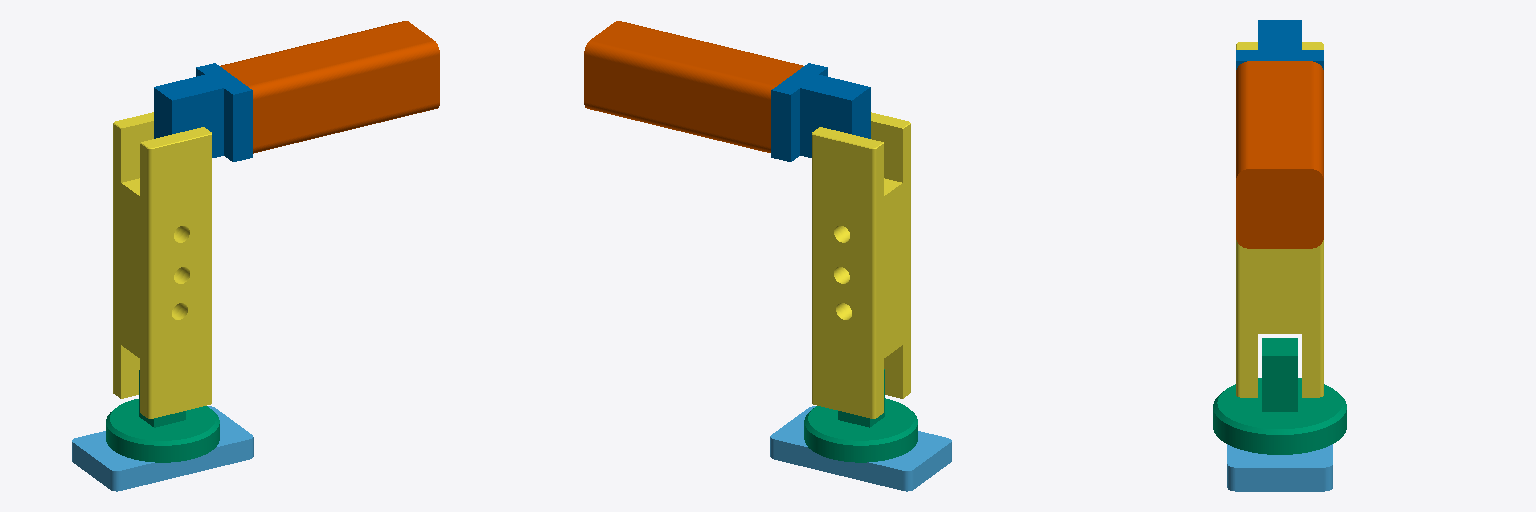
URDF robot description (niryo_one):
<?xml version="1.0" encoding="utf-8"?>
<!-- =================================================================================== -->
<!-- |    This document was autogenerated by xacro from niryo_one.urdf.xacro           | -->
<!-- |    EDITING THIS FILE BY HAND IS NOT RECOMMENDED                                 | -->
<!-- =================================================================================== -->
<!--
    niryo_one.urdf.xacro
    Copyright (C) 2017 Niryo
    All rights reserved.

    This program is free software: you can redistribute it and/or modify
    it under the terms of the GNU General Public License as published by
    the Free Software Foundation, either version 3 of the License, or
    (at your option) any later version.

    This program is distributed in the hope that it will be useful,
    but WITHOUT ANY WARRANTY; without even the implied warranty of
    MERCHANTABILITY or FITNESS FOR A PARTICULAR PURPOSE.  See the
    GNU General Public License for more details.

    You should have received a copy of the GNU General Public License
    along with this program.  If not, see <http://www.gnu.org/licenses/>.
-->
<robot name="niryo_one">
  <!-- Properties -->
  <!-- Links -->
  <link name="world"/>
  <link name="base_link">
    <visual>
      <origin rpy="0 0 0" xyz="0 0 0"/>
      <geometry>
        <mesh filename="package://niryo_one_urdf/meshes/collada/baza.dae"/>
      </geometry>
    </visual>
    <collision>
      <origin rpy="0 0 0" xyz="0 0 0"/>
      <geometry>
        <mesh filename="package://niryo_one_urdf/meshes/stl/baza.stl"/>
      </geometry>
    </collision>
  </link>
  <link name="shoulder_link">
    <visual>
      <origin rpy="0 0 0" xyz="0 0 0"/>
      <geometry>
        <mesh filename="package://niryo_one_urdf/meshes/collada/baza2.dae"/>
      </geometry>
    </visual>
    <collision>
      <origin rpy="0 0 0" xyz="0 0 0"/>
      <geometry>
        <mesh filename="package://niryo_one_urdf/meshes/stl/baza2.stl"/>
      </geometry>
    </collision>
  </link>
  <link name="arm_link">
    <visual>
      <origin rpy="-1.570796326 1.570796326 -1.570796326" xyz="0 0 0"/>
      <geometry>
        <mesh filename="package://niryo_one_urdf/meshes/collada/brat1.dae"/>
      </geometry>
    </visual>
    <collision>
      <origin rpy="-1.570796326 1.570796326 -1.570796326 " xyz="0 0 0"/>
      <geometry>
        <mesh filename="package://niryo_one_urdf/meshes/stl/brat1.stl"/>
      </geometry>
    </collision>
  </link>
  <link name="elbow_link">
    <visual>
      <origin rpy="-1.570796326 1.570796326 -1.570796326 " xyz="0 0 0"/>
      <geometry>
        <mesh filename="package://niryo_one_urdf/meshes/collada/link1.dae"/>
      </geometry>
    </visual>
    <collision>
      <origin rpy="-1.570796326 1.570796326 -1.570796326 " xyz="0 0 0"/>
      <geometry>
        <mesh filename="package://niryo_one_urdf/meshes/stl/link1.stl"/>
      </geometry>
    </collision>
  </link>
  <link name="forearm_link">
    <visual>
      <origin rpy="0 0 1.570796326 " xyz="0 0 0"/>
      <geometry>
        <mesh filename="package://niryo_one_urdf/meshes/collada/brat 2.dae"/>
      </geometry>
    </visual>
    <collision>
      <origin rpy="0 0 1.570796326 " xyz="0 0 0"/>
      <geometry>
        <mesh filename="package://niryo_one_urdf/meshes/stl/brat 2.stl"/>
      </geometry>
    </collision>
  </link>
  <link name="wrist_link">
    <visual>
      <origin rpy="0 0 0" xyz="0 0 0"/>
      <geometry>
        <mesh filename="package://niryo_one_urdf/meshes/collada/wrist_link.dae"/>
      </geometry>
    </visual>
    <collision>
      <origin rpy="0 0 0" xyz="0 0 0"/>
      <geometry>
        <mesh filename="package://niryo_one_urdf/meshes/stl/wrist_link.stl"/>
      </geometry>
    </collision>
  </link>
  <link name="hand_link">
    <visual>
      <origin rpy="0 0 0" xyz="0 0 0"/>
      <geometry>
        <mesh filename="package://niryo_one_urdf/meshes/collada/hand_link.dae"/>
      </geometry>
    </visual>
    <collision>
      <origin rpy="0 0 0" xyz="0 0 0"/>
      <geometry>
        <mesh filename="package://niryo_one_urdf/meshes/stl/hand_link.stl"/>
      </geometry>
    </collision>
  </link>

  <link name="tool_link">
</link>

<link name="gripper_base">
    <visual>
      <origin rpy="0 0 0" xyz="0 0 0"/>
      <geometry>
        <mesh filename="package://niryo_one_urdf/Gripper1/G1_MainSupport.STL" scale = ".001 .001 .001" />
      </geometry>
    </visual>
    <collision>
      <origin rpy="0 0 0" xyz="0 0 0"/>
      <geometry>
        <mesh filename="package://niryo_one_urdf/Gripper1/G1_MainSupport.STL" scale = ".001 .001 .001" />
      </geometry>
    </collision>

  </link>
  <link name="servo_head">
    <visual>
      <origin rpy="0 0 0" xyz="0 0 0"/>
      <geometry>
        <mesh filename="package://niryo_one_urdf/Gripper1/G1_ServoHead.STL" scale = ".001 .001 .001"/>
      </geometry>
    </visual>
    <collision>
      <origin rpy="0 0 0" xyz="0 0 0"/>
      <geometry>
        <mesh filename="package://niryo_one_urdf/Gripper1/G1_ServoHead.STL" scale = ".001 .001 .001"/>
      </geometry>
    </collision>

  </link>

  <link name="control_rod_right">
    <visual>
      <origin rpy="0 0 0" xyz="0 0 0"/>
      <geometry>
        <mesh filename="package://niryo_one_urdf/Gripper1/G1_Rod.STL" scale = ".001 .001 .001"/>
      </geometry>
    </visual>
    <collision>
      <origin rpy="0 0 0" xyz="0 0 0"/>
      <geometry>
        <mesh filename="package://niryo_one_urdf/Gripper1/G1_Rod.STL" scale = ".001 .001 .001"/>
      </geometry>
    </collision>
  </link>

  <link name="control_rod_left">
    <visual>
      <origin rpy="0 0 0" xyz="0 0 0"/>
      <geometry>
        <mesh filename="package://niryo_one_urdf/Gripper1/G1_Rod.STL" scale = ".001 .001 .001"/>
      </geometry>
    </visual>
    <collision>
      <origin rpy="0 0 0" xyz="0 0 0"/>
      <geometry>
        <mesh filename="package://niryo_one_urdf/Gripper1/G1_Rod.STL" scale = ".001 .001 .001"/>
      </geometry>
    </collision>
  </link>

<link name="right_gripper">
    <visual>
      <origin rpy="0 0 0" xyz="0 0 0"/>
      <geometry>
        <mesh filename="package://niryo_one_urdf/Gripper1/G1_ClampRight.STL" scale = ".001 .001 .001"/>
      </geometry>
    </visual>
    <collision>
      <origin rpy="0 0 0" xyz="0 0 0"/>
      <geometry>
        <mesh filename="package://niryo_one_urdf/Gripper1/G1_ClampRight.STL" scale = ".001 .001 .001"/>
      </geometry>
    </collision>

  </link>
<link name="left_gripper">
    <visual>
      <origin rpy="0 0 0" xyz="0 0 0"/>
      <geometry>
        <mesh filename="package://niryo_one_urdf/Gripper1/G1_ClampLeft.STL" scale = ".001 .001 .001"/>
      </geometry>
    </visual>
    <collision>
      <origin rpy="0 0 0" xyz="0 0 0"/>
      <geometry>
        <mesh filename="package://niryo_one_urdf/Gripper1/G1_ClampLeft.STL" scale = ".001 .001 .001"/>
      </geometry>
    </collision>

  </link>

  <!--Disable_Collisions -->
  <disable_collision link1="right_gripper" link2="gripper_base">
  </disable_collision>
  <disable_collision link1="left_gripper" link2="gripper_base">
  </disable_collision>

  <!--Joints -->
  <joint name="joint_world" type="fixed">
    <parent link="world"/>
    <child link="base_link"/>
    <origin rpy="0 0 0" xyz="0.01 0 0.63"/>
  </joint>
  <joint name="joint_1" type="revolute">
    <parent link="base_link"/>
    <child link="shoulder_link"/>
    <origin rpy="0 0 0" xyz="0 0 0.03"/>
    <axis xyz="0 0 1"/>
    <limit effort="1" lower="-3.05433" upper="3.05433" velocity="1.0"/>
  </joint>
  <joint name="joint_2" type="revolute">
    <parent link="shoulder_link"/>
    <child link="arm_link"/>
    <origin rpy="1.5707963268 -1.5707963268 0" xyz="0 0 0.06"/>
    <limit effort="1" lower="-1.91986" upper="0.640187" velocity="1.0"/>
    <axis xyz="0 0 1"/>
  </joint>
  <joint name="joint_3" type="revolute">
    <parent link="arm_link"/>
    <child link="elbow_link"/>
    <origin rpy="0 0 -1.5707963268" xyz="0.4 0 0"/>
    <limit effort="1" lower="-1.397485" upper="1.5707963268" velocity="1.0"/>
    <axis xyz="0 0 1"/>
  </joint>
  <joint name="joint_4" type="revolute">
    <parent link="elbow_link"/>
    <child link="forearm_link"/>
    <origin rpy="0 1.5707963268 0" xyz="0.11 0 0"/>
    <limit effort="1" lower="-3.05433" upper="3.05433" velocity="1.0"/>
    <axis xyz="0 0 1"/>
  </joint>
  <joint name="joint_5" type="revolute">
    <parent link="forearm_link"/>
    <child link="wrist_link"/>
    <origin rpy="0 -1.5707963268 0" xyz="-0.005 0 0.32"/>
    <limit effort="1" lower="-1.74533" upper="1.91986" velocity="1.0"/>
    <axis xyz="0 0 1"/>
  </joint>
  <joint name="joint_6" type="revolute">
    <parent link="wrist_link"/>
    <child link="hand_link"/>
    <origin rpy="0 1.5707963268 0" xyz="0.0164 -0.0055 0"/>
    <limit effort="1" lower="-2.57436" upper="2.57436" velocity="1.0"/>
    <axis xyz="0 0 1"/>
  </joint>
  <joint name="hand_tool_joint" type="fixed">
    <parent link="hand_link"/>
    <child link="tool_link"/>
    <origin rpy="-1.5707963268 -1.5707963268 0" xyz="0 0 0.0073"/>
  </joint>

  <joint name="hand_tool_joint" type="fixed">
    <parent link="tool_link"/>
    <child link="gripper_base"/>
    <origin rpy="1.5707 0 -1.5707" xyz="0.0246 0 -0.01475"/>
  </joint>

  <joint name="servo_head_joint" type="fixed">
    <parent link="gripper_base"/>
    <child link="servo_head"/>
    <origin rpy="0 0 0" xyz="0 0 0"/>
  </joint>
  <joint name="control_rod_left" type="fixed">
    <parent link="servo_head"/>
    <child link="control_rod_left"/>
    <origin rpy="0 0 0" xyz="0 0 0"/>
  </joint>
<joint name="control_rod_right" type="fixed">
    <parent link="servo_head"/>
    <child link="control_rod_right"/>
    <origin rpy="0 3.141 0" xyz="0 0 0"/>
  </joint>
  <joint name="gripper_joint_right" type="prismatic">
    <parent link="control_rod_right"/>
    <child link="right_gripper"/>
    <origin rpy="0 3.141 0" xyz="0 0 0"/>
    <limit effort="1" lower="-0.0257436" upper="0.0257436" velocity="1.0"/>
    <mimic joint = "gripper_joint_left" multiplier = "-1"/> 
  </joint>
<joint name="gripper_joint_left" type="prismatic">
    <parent link="control_rod_left"/>
    <child link="left_gripper"/>
    <origin rpy="0 0 0" xyz="0 0 0"/>
    <limit effort="1" lower="-0.0257436" upper="0.0257436" velocity="1.0"/>
  </joint>
</robot>

--- Render facts (derived) ---
The picture shows the robot from 3 angles, left to right: view 1: azimuth 30°, elevation 25°; view 2: azimuth 150°, elevation 25°; view 3: azimuth 270°, elevation 25°; orthographic projection.
Robot: niryo_one — 15 links, 14 joints (6 revolute, 2 prismatic, 6 fixed); root link world; default pose: all joints at 0.
Visible links, largest first — view 1: arm_link, forearm_link, elbow_link, shoulder_link, base_link; view 2: arm_link, forearm_link, elbow_link, shoulder_link, base_link; view 3: forearm_link, arm_link, shoulder_link, base_link, elbow_link.
Boxes of the visible links, x1,y1,x2,y2 form: arm_link: (113,112,211,418); forearm_link: (220,21,439,153); elbow_link: (154,63,252,161); shoulder_link: (106,370,219,462); base_link: (72,406,253,491); arm_link: (812,112,910,418); forearm_link: (584,21,803,152); elbow_link: (771,63,870,161); shoulder_link: (804,369,917,462); base_link: (770,406,951,491); forearm_link: (1236,61,1323,248); arm_link: (1236,42,1323,397); shoulder_link: (1213,338,1346,454); base_link: (1227,444,1332,491); elbow_link: (1236,20,1323,69).
Bounding box of the posed robot: 0.51 × 0.1523 × 0.54 m (x, y, z).
Meshes: 12 distinct files referenced, 5 mesh visuals loaded (5 Collada DAE); not drawn: 8 (reference not matched to a file when rendering).